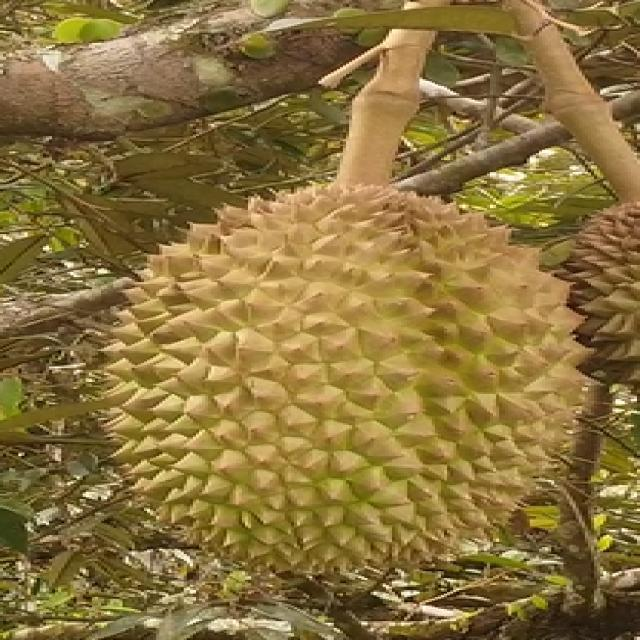RIPE: (95, 183, 583, 574)
